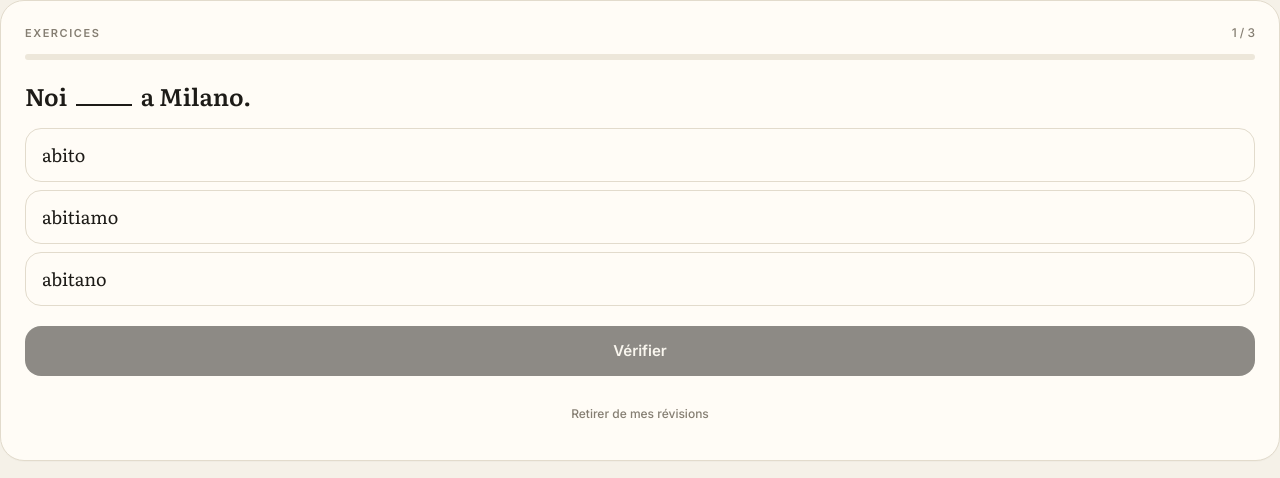
Test: GrammarPractice › removes the card from the reviews
Click the button "Retirer de mes révisions": (640, 414) left=571, top=392, right=709, bottom=436
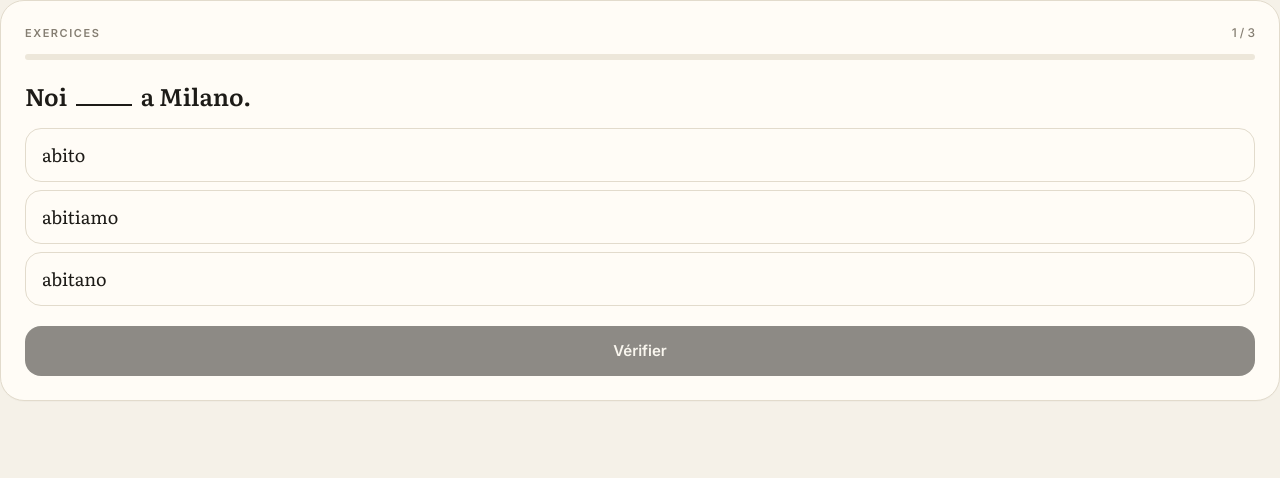
expect the button "Retirer de mes révisions" is gone: met
